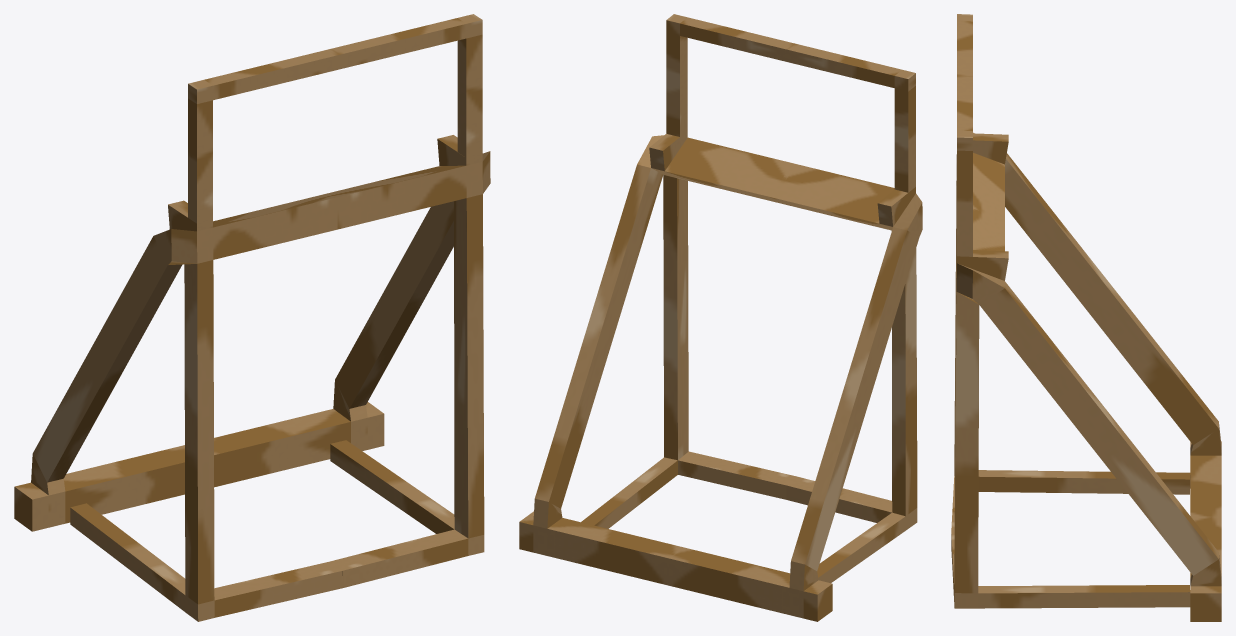
The model's file is SignHolder_01.fbx.
3 views of the same model, side by side, from view 1: azimuth 30°, elevation 25°; view 2: azimuth 150°, elevation 25°; view 3: azimuth 270°, elevation 25° (orthographic). The views are drawn at different scales.
Parts seen in each view (by area): view 1: Cube.003; view 2: Cube.003; view 3: Cube.003.
Part boxes in pixels (bbox=[...]): Cube.003: bbox=[14, 14, 490, 621]; Cube.003: bbox=[519, 14, 922, 621]; Cube.003: bbox=[951, 14, 1221, 621].
Bounding box in the file's own units: 318 × 459 × 239.
